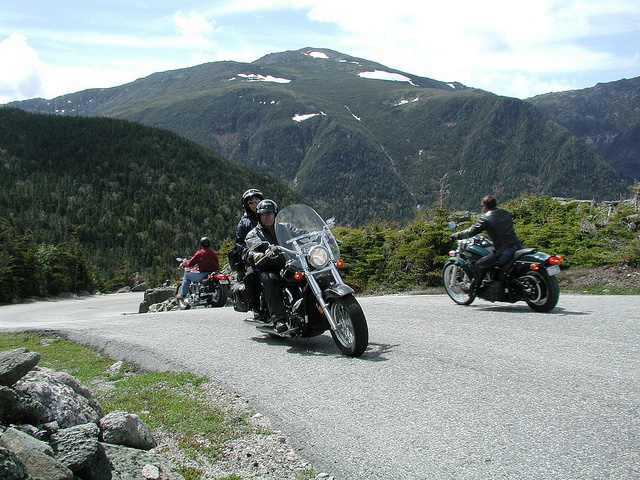non-vehicle: (230, 204, 369, 358), (437, 240, 564, 317), (174, 270, 231, 309)
